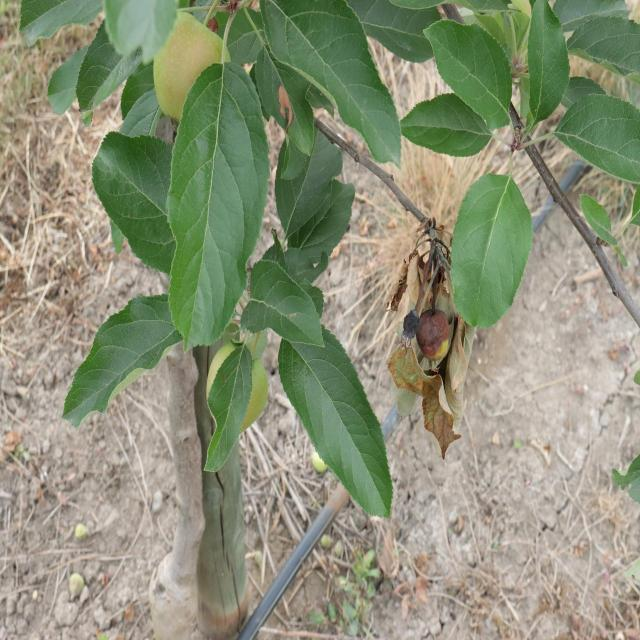-FireBlight-: (412, 205, 469, 465)
